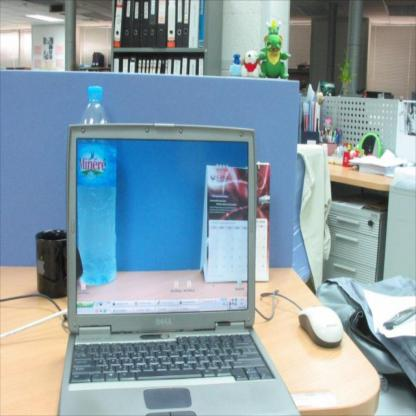board: (54, 106, 286, 413), (77, 87, 116, 289)
